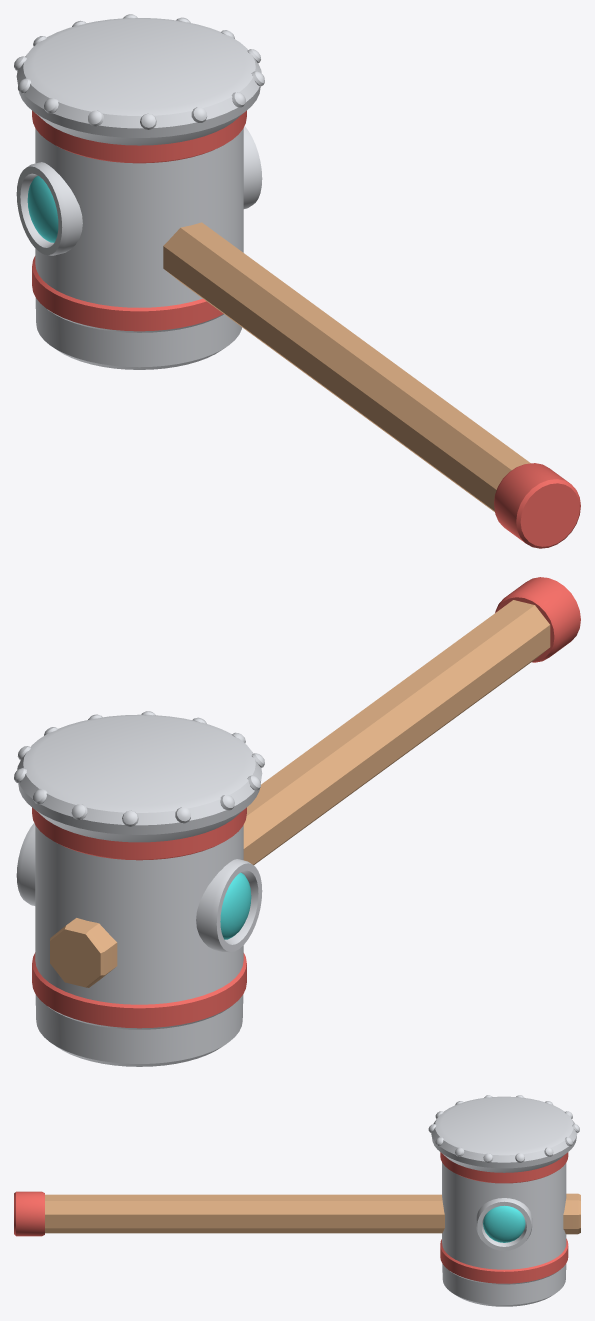
Rendered from weapon_hammer.glb.
3 renders of one model, top to bottom at view 1: azimuth 30°, elevation 25°; view 2: azimuth 150°, elevation 25°; view 3: azimuth 270°, elevation 25°, orthographic. The views are drawn at different scales.
Parts seen in each view (by area): view 1: Hammer_Head, Hammer_Handle, Hammer_Cap, Hammer_Gem; view 2: Hammer_Head, Hammer_Handle, Hammer_Cap, Hammer_Gem; view 3: Hammer_Head, Hammer_Handle, Hammer_Cap, Hammer_Gem.
Boxes of the visible parts, <box> form: Hammer_Head: <box>14,14,264,369</box>; Hammer_Handle: <box>163,222,530,511</box>; Hammer_Cap: <box>494,463,580,548</box>; Hammer_Gem: <box>27,175,58,242</box>; Hammer_Head: <box>14,711,264,1066</box>; Hammer_Handle: <box>50,600,550,987</box>; Hammer_Cap: <box>495,577,580,662</box>; Hammer_Gem: <box>220,872,251,939</box>; Hammer_Head: <box>428,1095,579,1306</box>; Hammer_Handle: <box>45,1193,580,1234</box>; Hammer_Cap: <box>14,1191,44,1236</box>; Hammer_Gem: <box>483,1205,525,1242</box>.
Size of the model in its own units: 0.3046 by 0.36 by 1.17.
